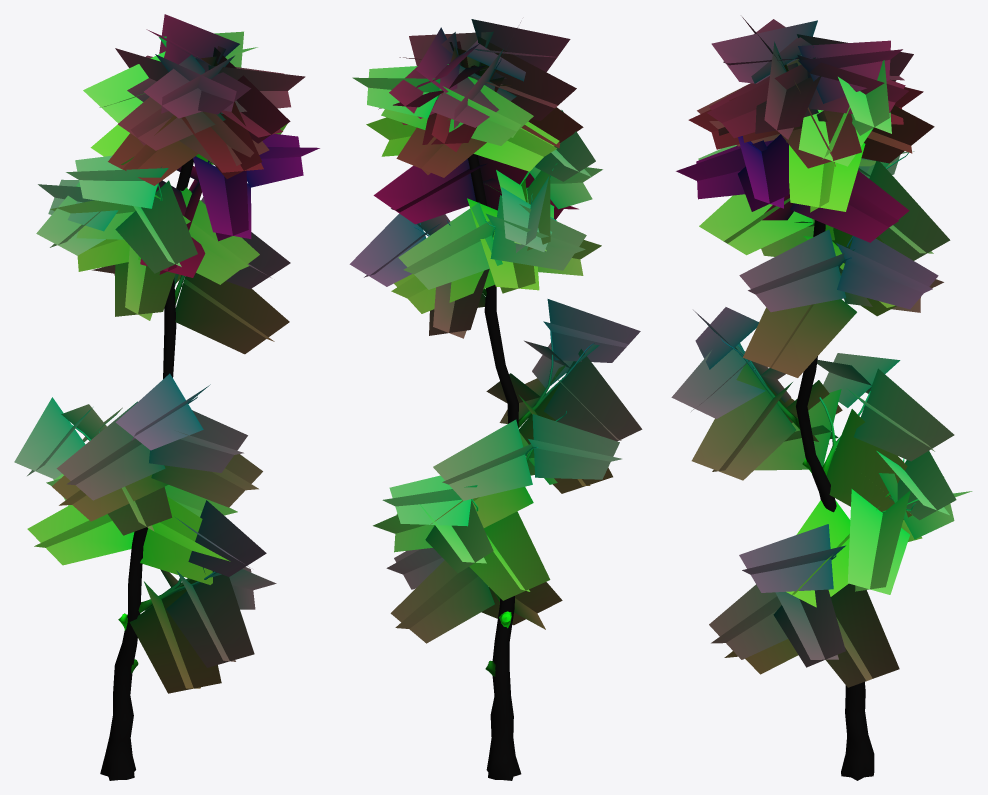
The model's file is M_Realistic7_9.fbx.
The picture shows the model from 3 angles, left to right: view 1: azimuth 30°, elevation 25°; view 2: azimuth 150°, elevation 25°; view 3: azimuth 270°, elevation 25°; orthographic projection. The views are drawn at different scales.
Parts seen in each view (by area): view 1: Tree_9; view 2: Tree_9; view 3: Tree_9.
Boxes of the visible parts, left/top/right/bottom form: Tree_9: left=14, top=14, right=319, bottom=780; Tree_9: left=349, top=19, right=642, bottom=780; Tree_9: left=671, top=17, right=972, bottom=780.
Bounding box in the file's own units: 1063 × 2751 × 989.
